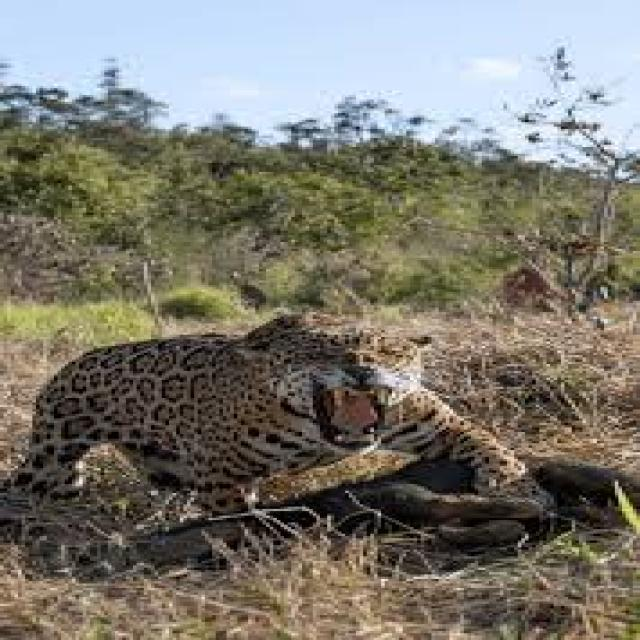Jaguar: (14, 310, 500, 506)
